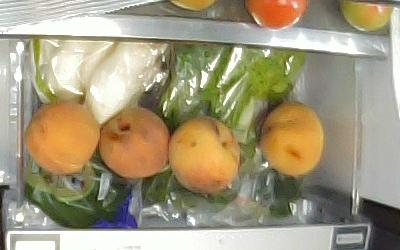peach: (24, 101, 100, 174), (168, 117, 241, 193), (99, 107, 169, 178), (259, 103, 325, 175)
